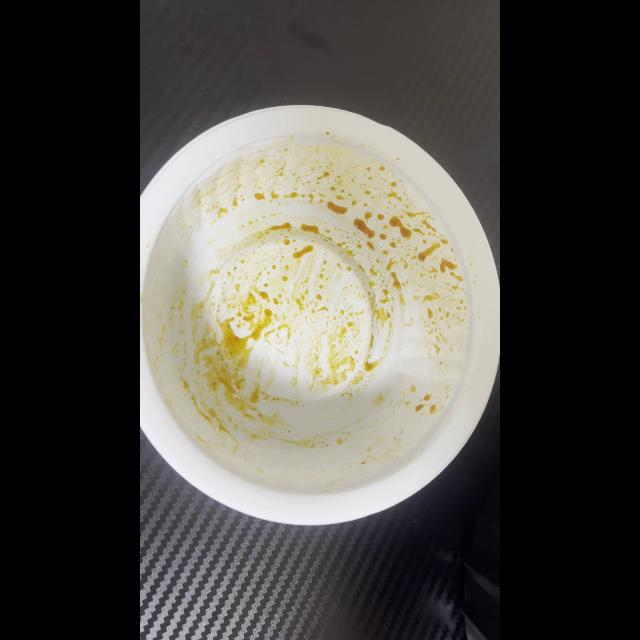dirty: (140, 106, 496, 518)
